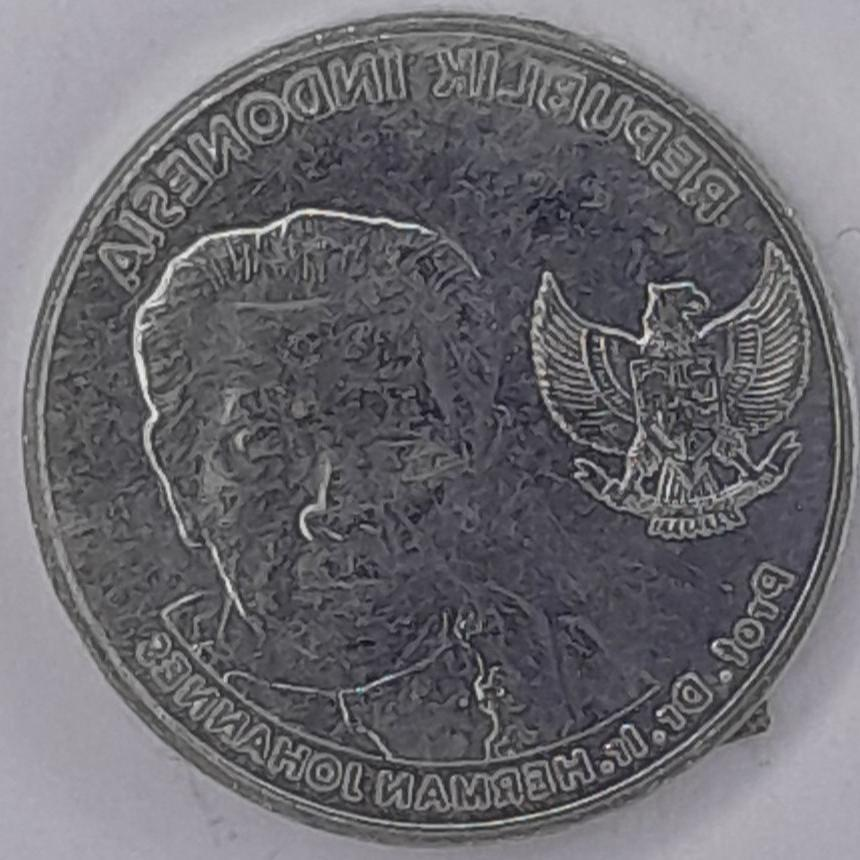coin_100_e2016: (17, 5, 859, 845)
